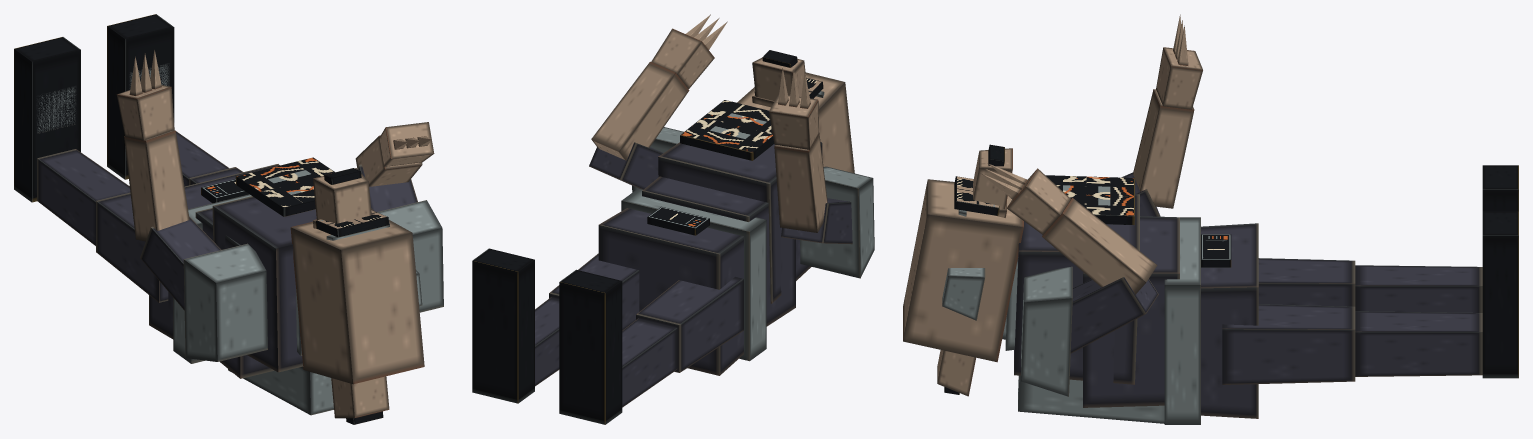
File: repetiel_neutral.obj
3 renders of one model, left to right at view 1: azimuth 30°, elevation 25°; view 2: azimuth 150°, elevation 25°; view 3: azimuth 270°, elevation 25°, orthographic. The views are drawn at different scales.
Parts seen in each view (by area): view 1: repetiel_neutral; view 2: repetiel_neutral; view 3: repetiel_neutral.
Part boxes in pixels (x1,y1,x2,y2): repetiel_neutral: (14, 14, 443, 424); repetiel_neutral: (472, 14, 874, 424); repetiel_neutral: (903, 14, 1518, 424).
Size of the model in its own units: 0.4913 by 0.6086 by 1.
1 material, 1 textured.
